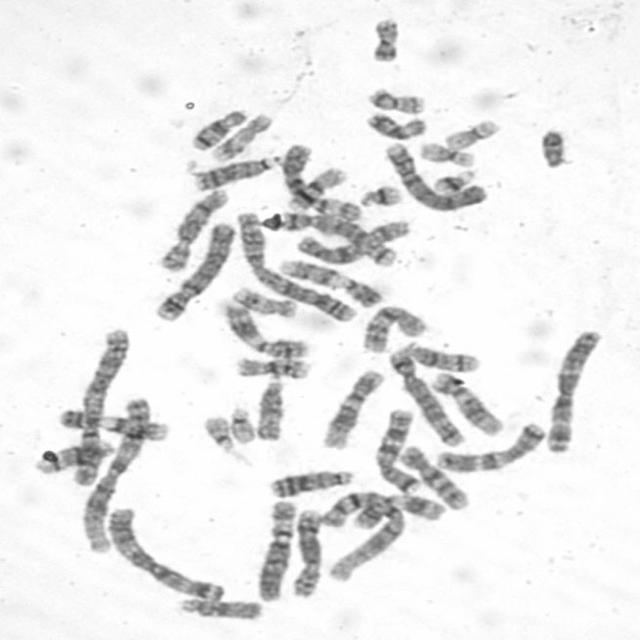A1: (74, 391, 153, 555), (316, 484, 410, 584)
A2: (230, 206, 364, 323), (64, 323, 132, 487)
A3: (100, 501, 227, 602), (539, 323, 605, 455)
B4: (148, 215, 237, 323), (378, 136, 488, 214)
B5: (383, 344, 469, 448), (270, 206, 400, 268)
C10: (393, 439, 471, 512), (354, 299, 429, 355)
C11: (214, 297, 310, 360), (343, 486, 449, 531)
C12: (316, 364, 386, 450), (424, 366, 506, 438)
C6: (276, 138, 366, 224), (249, 494, 299, 604)
C7: (429, 416, 549, 474), (368, 403, 424, 494)
C8: (153, 182, 232, 272), (284, 504, 326, 599)
C9: (273, 252, 384, 308), (50, 403, 172, 442)
D13: (186, 150, 282, 192), (262, 462, 356, 500)
D14: (28, 435, 118, 475), (398, 337, 482, 373)
D15: (172, 592, 264, 621), (249, 373, 287, 442)
E16: (280, 162, 349, 211), (228, 351, 313, 379)
E17: (205, 107, 275, 163), (224, 281, 299, 318)
E18: (183, 103, 249, 151), (359, 106, 428, 141)
F19: (437, 113, 503, 150), (413, 136, 477, 167)
F20: (361, 82, 427, 115), (363, 12, 402, 64)
G21: (426, 163, 478, 195), (353, 179, 405, 209)
G22: (196, 410, 238, 453), (222, 401, 258, 445)
X: (285, 213, 413, 266)
Y: (532, 123, 570, 169)
